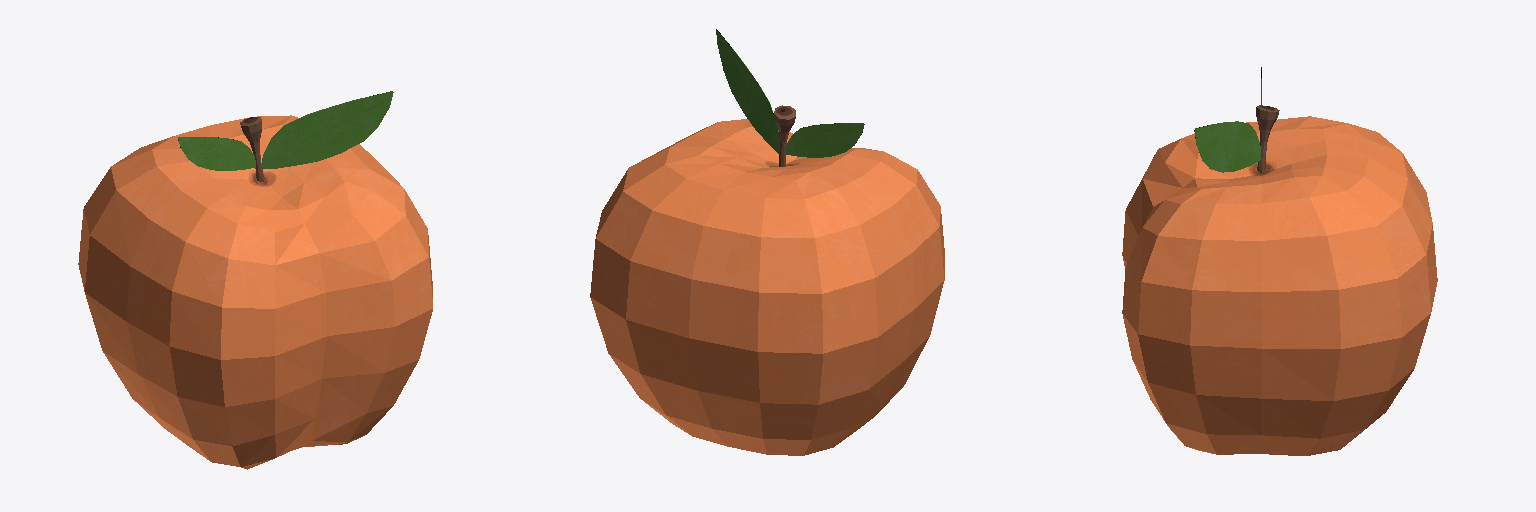
The picture shows the model from 3 angles: view 1: azimuth 30°, elevation 25°; view 2: azimuth 150°, elevation 25°; view 3: azimuth 270°, elevation 25°; orthographic projection.
Visible parts, largest first — view 1: peach_final_Cube.005; view 2: peach_final_Cube.005; view 3: peach_final_Cube.005.
Boxes of the visible parts, box(x1,y1,x2,y2) form: peach_final_Cube.005: box(78, 91, 432, 469); peach_final_Cube.005: box(590, 29, 944, 455); peach_final_Cube.005: box(1122, 67, 1437, 455).
Bounding box in the file's own units: 0.34 × 0.4 × 0.33.
1 materials, 1 textured.